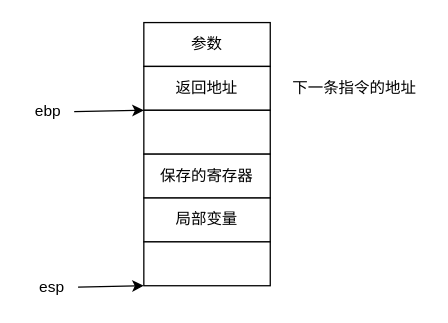
Some shapes in this 448 by 323 pixel diagram are drawn without their labels. Here are the shapes that lost their labels. From the top down, the centre of each, then its label:
the point at 206,131: Old EBP
the point at 206,263: 其它数据
